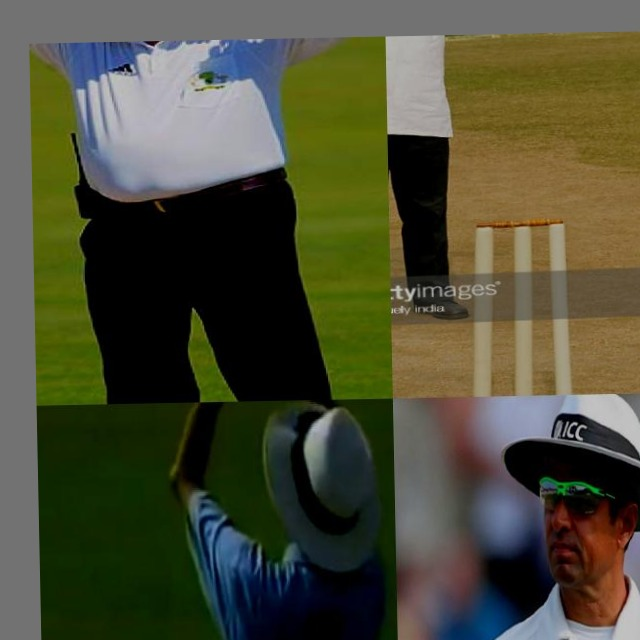No_Action: (407, 393, 640, 640)
Six: (29, 36, 393, 406), (147, 398, 398, 640), (385, 33, 552, 327)
